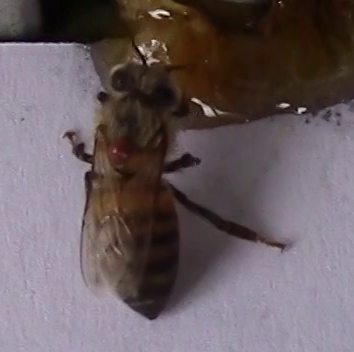Varroa destructor: (108, 132, 134, 167)
